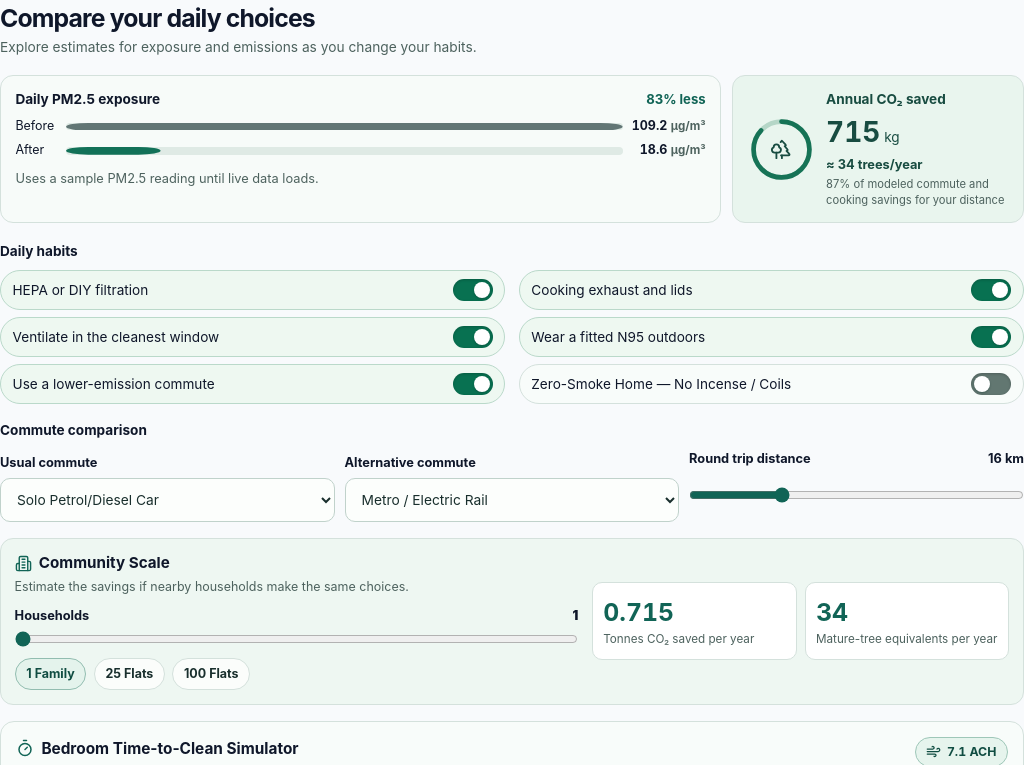
Test case: ChoiceImpactSimulator, RoutinePlanner & RoomCleanCurve › ChoiceImpactSimulator updates commute selects, slider, and breakdown disclosure
Expected: the button "How the estimates are calculated" is not shown
Expected: the text "Uses a sample PM2.5 reading until live data loads." is shown, [15,171,319,186]
Select "Two-Wheeler / Scooter" in the dropdown labelled "Usual commute" at [167, 500], box [0,478,335,522]
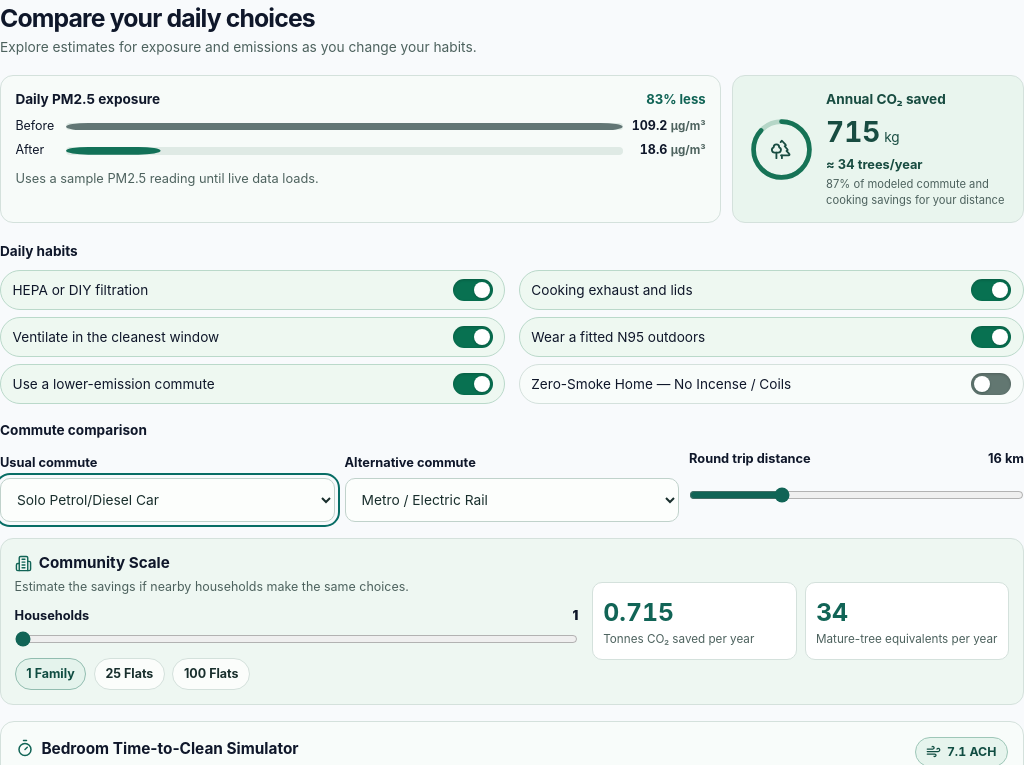
Select "Work From Home" in the dropdown labelled "Alternative commute" at [512, 500], box [344,478,679,522]
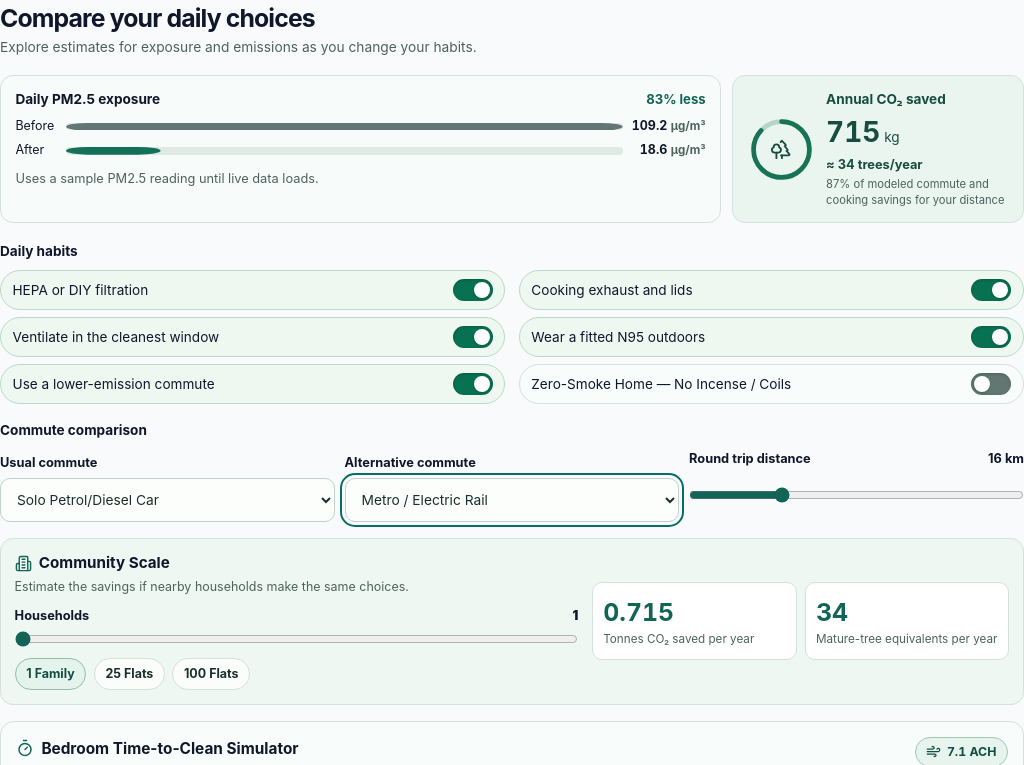
Set the slider labelled "Round trip distance" to "24" at [825, 495], box [689,473,1023,517]
(page scrolled)
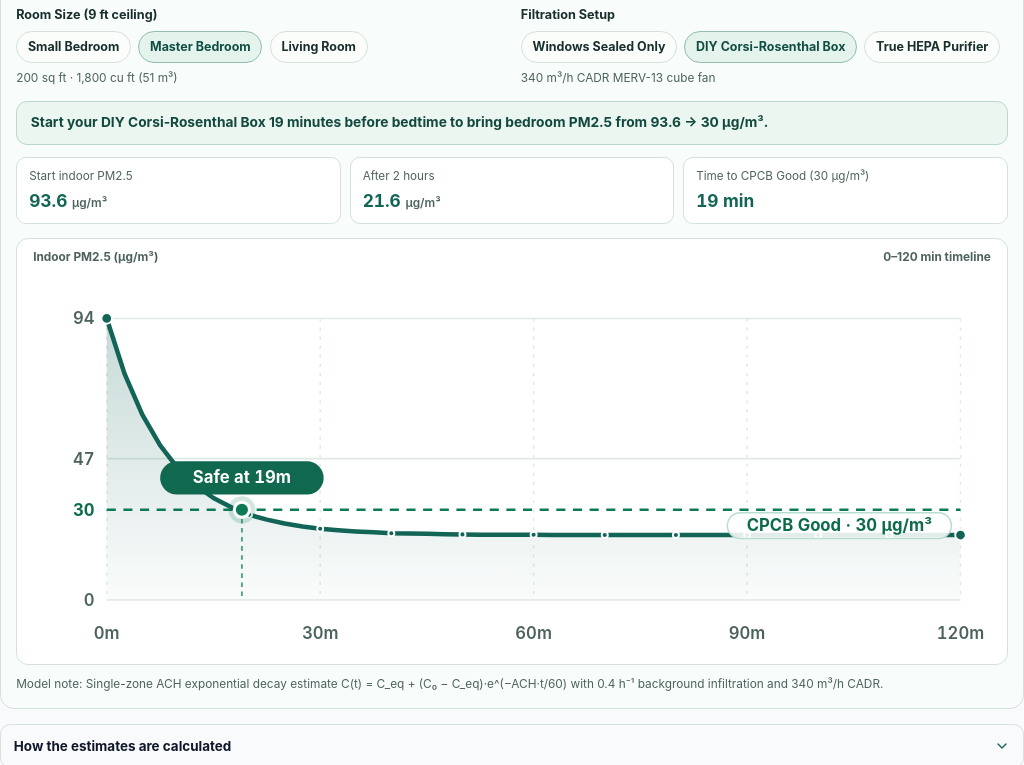
Click the button "How the estimates are calculated" at [123, 746], box [14,736,1010,756]
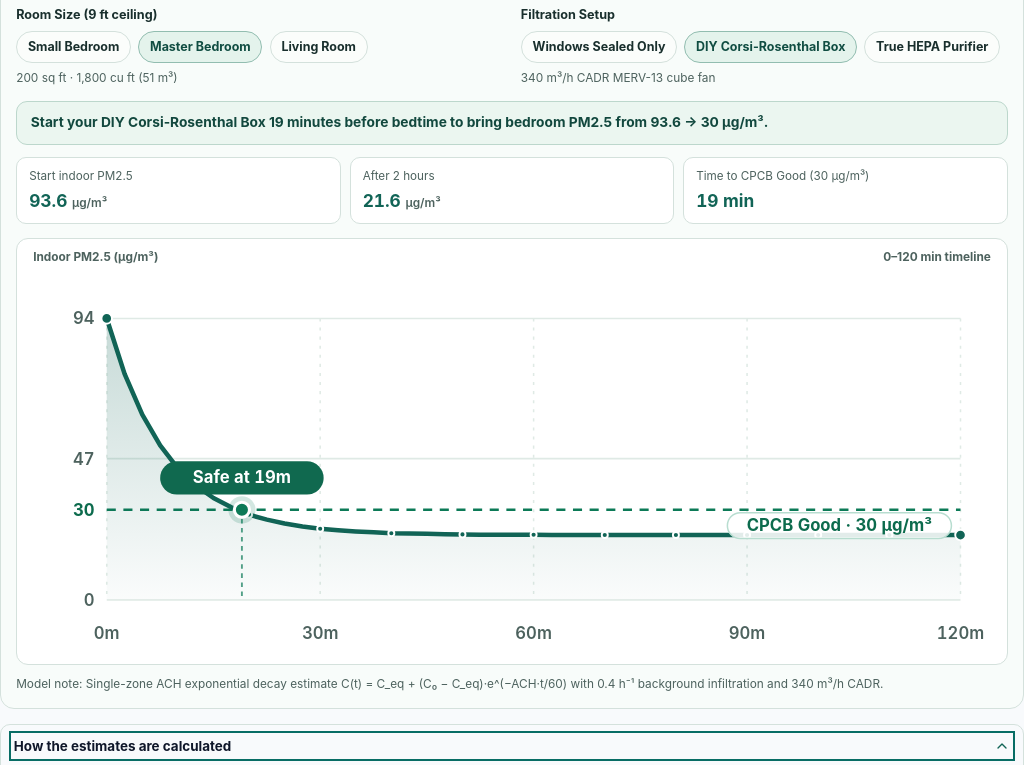
Now the button "How the estimates are calculated" is expanded, box [14,736,1010,756]
